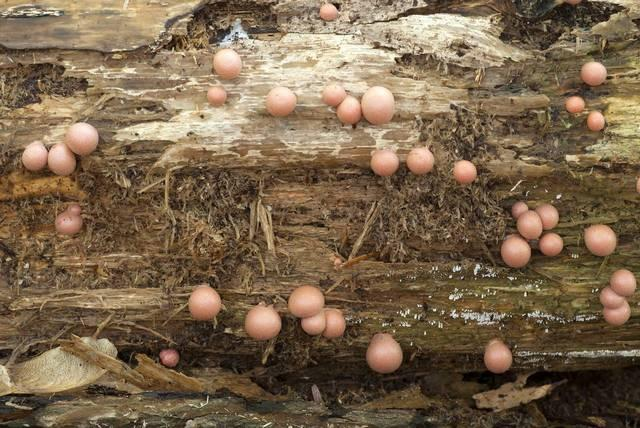Non-edible Mushroom: (508, 194, 640, 315), (1, 333, 118, 398), (365, 331, 403, 373), (243, 303, 281, 340), (360, 85, 395, 125), (287, 284, 324, 318), (187, 285, 221, 321), (64, 121, 99, 155), (499, 235, 531, 268), (211, 47, 242, 79), (483, 339, 512, 373), (264, 86, 296, 116), (369, 148, 399, 176), (406, 146, 434, 175), (21, 140, 47, 171), (579, 60, 607, 86), (452, 159, 477, 184), (205, 85, 226, 106), (158, 347, 179, 367), (318, 2, 338, 21)
